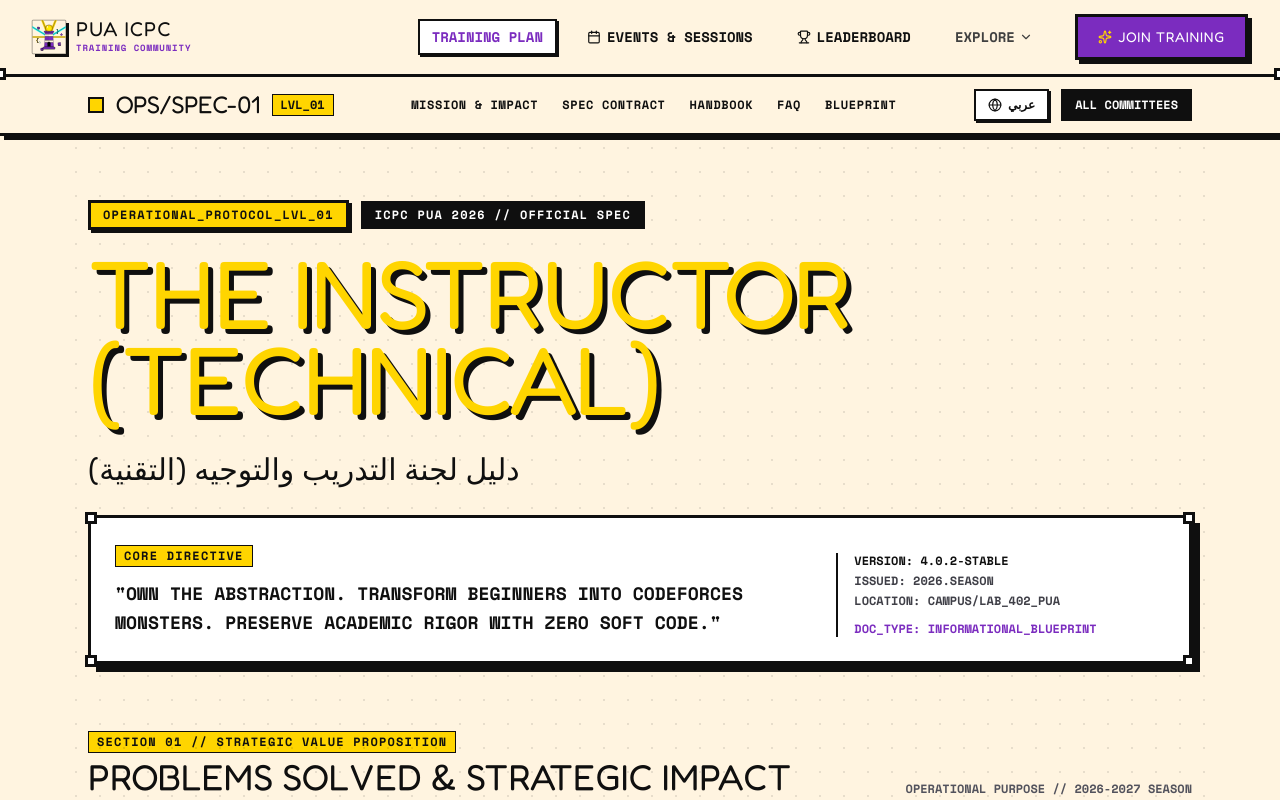
it: PuaSpecSheet › switches the section copy to Arabic when the language toggles
expect the link "MISSION & IMPACT" is shown: met, box [411,97,538,113]
Click the button "عربي". click: (1012, 105)
box: [974,89,1049,121]
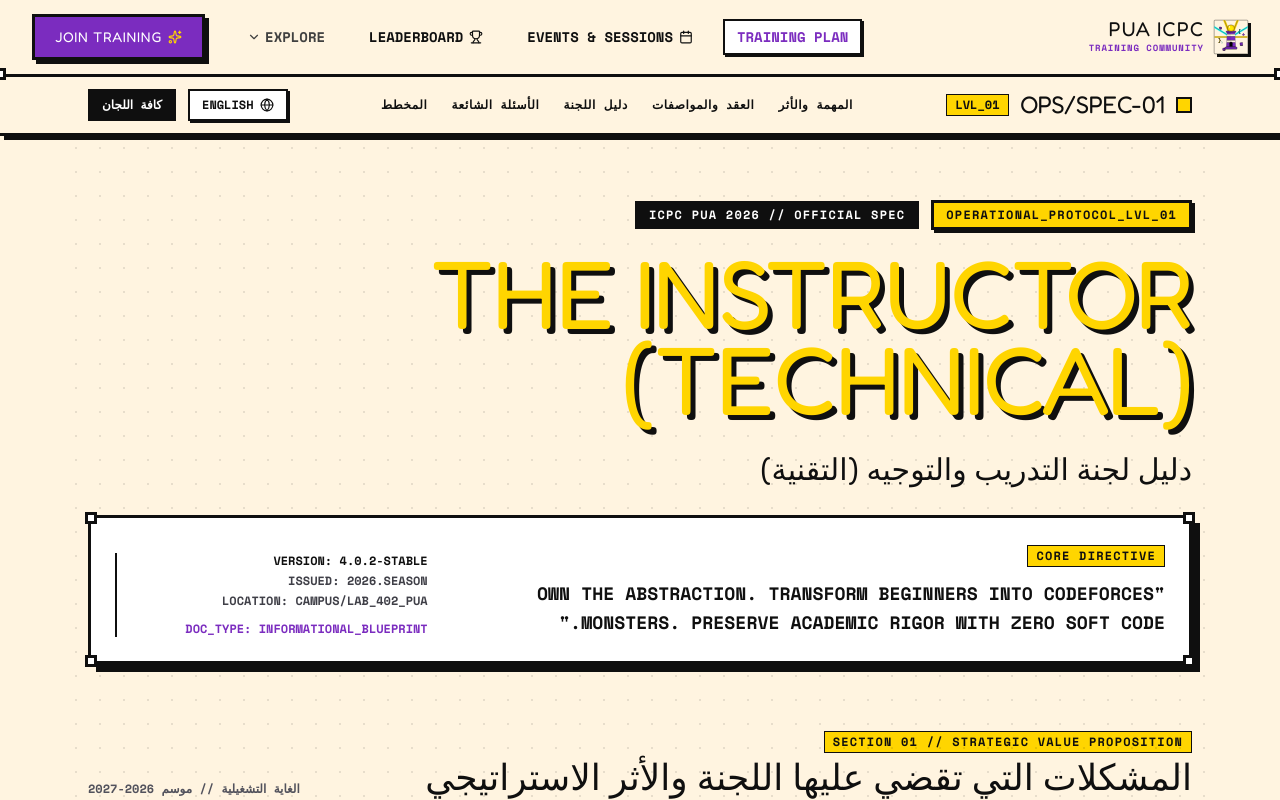
expect the link "المهمة والأثر" is shown: met, box [778,97,853,113]
expect the link "MISSION & IMPACT" is gone: met
